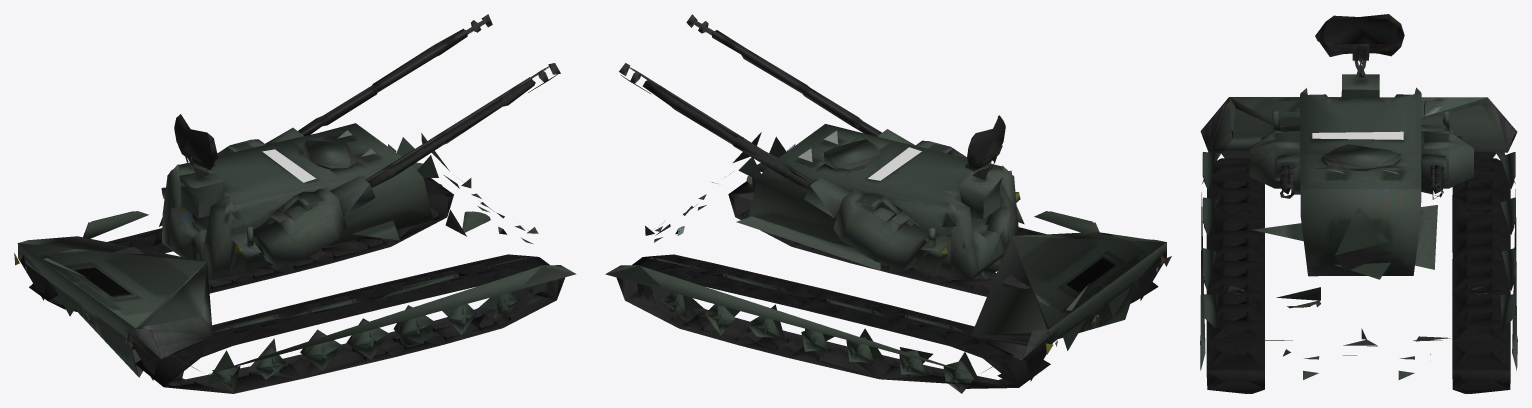
File: gepard_lo.glb
3 views of the same model, side by side, from view 1: azimuth 30°, elevation 25°; view 2: azimuth 150°, elevation 25°; view 3: azimuth 270°, elevation 25° (orthographic). The views are drawn at different scales.
Visible parts, largest first — view 1: g_gepard_hull, g_gepard_turret; view 2: g_gepard_hull, g_gepard_turret; view 3: g_gepard_hull, g_gepard_turret.
Part boxes in pixels (x1,y1,x2,y2): g_gepard_hull: (14, 130, 576, 393); g_gepard_turret: (161, 14, 560, 279); g_gepard_hull: (605, 130, 1171, 393); g_gepard_turret: (619, 14, 1020, 281); g_gepard_hull: (1200, 97, 1517, 393); g_gepard_turret: (1249, 14, 1473, 276).
Bounding box in the file's own units: 7.69 × 3.64 × 4.26.
3 materials, 2 textured.
